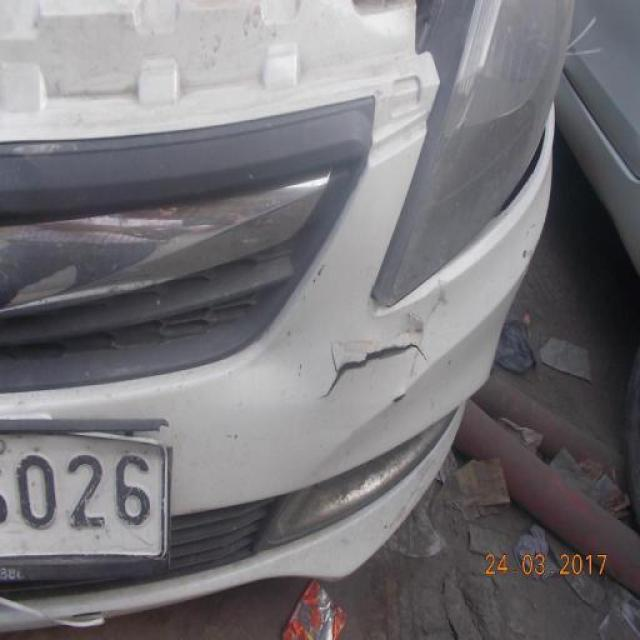scratch: (401, 269, 456, 379)
tear: (321, 333, 427, 407)
